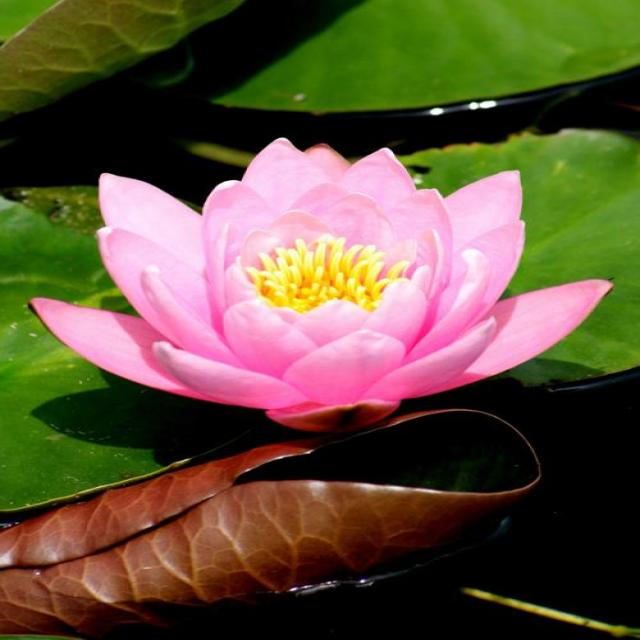rose: (25, 118, 640, 516)
